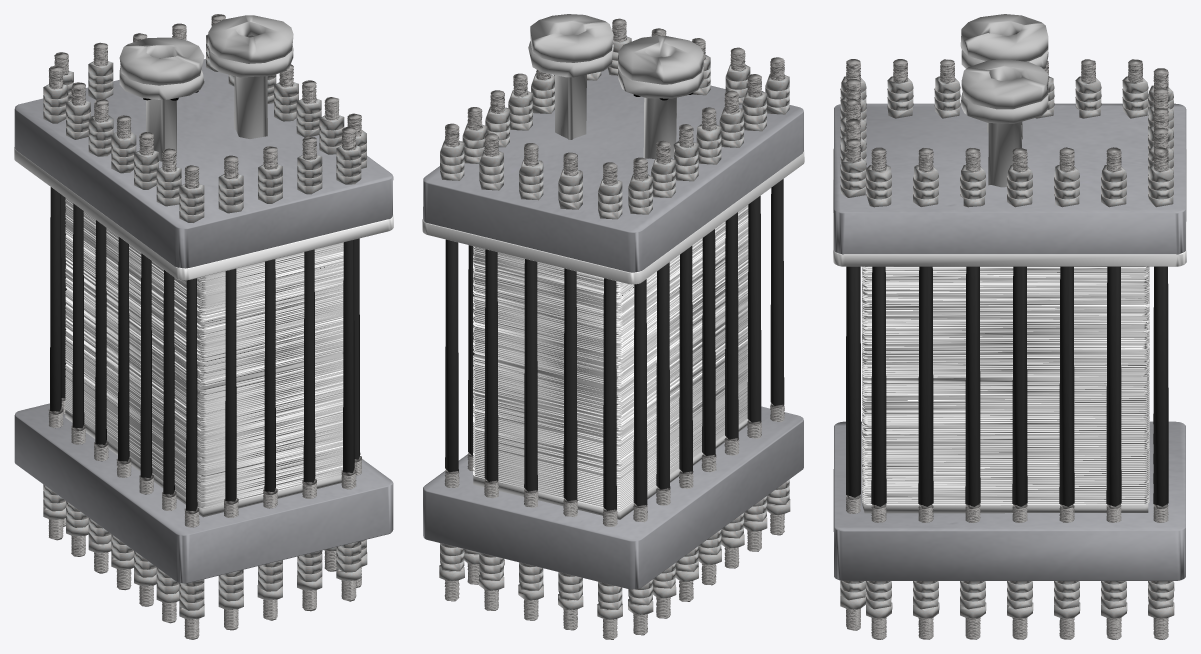
The model's file is hydrolyzer.glb.
The picture shows the model from 3 angles, left to right: view 1: azimuth 30°, elevation 25°; view 2: azimuth 150°, elevation 25°; view 3: azimuth 270°, elevation 25°; orthographic projection. The views are drawn at different scales.
Parts seen in each view (by area): view 1: Plane001, Circle, Bolt001_2, Nut, Bolt001_1, Plane018; view 2: Plane001, Circle, Bolt001_2, Nut, Bolt001_1, Plane018; view 3: Plane001, Circle, Bolt001_2, Nut, Bolt001_1, Plane018.
Part boxes in pixels (box(x1,y1,x2,y2)): Plane001: box(14, 59, 393, 583); Circle: box(65, 15, 343, 517); Bolt001_2: box(50, 187, 360, 511); Nut: box(43, 34, 367, 618); Bolt001_1: box(48, 14, 361, 639); Plane018: box(14, 147, 393, 280); Plane001: box(423, 68, 803, 589); Circle: box(473, 14, 748, 519); Bolt001_2: box(445, 179, 784, 510); Nut: box(439, 36, 790, 619); Bolt001_1: box(444, 18, 784, 639); Plane018: box(422, 150, 804, 284); Plane001: box(833, 103, 1186, 580); Circle: box(861, 14, 1149, 513); Bolt001_2: box(846, 266, 1168, 506); Nut: box(840, 76, 1174, 618); Bolt001_1: box(846, 59, 1168, 639); Plane018: box(833, 149, 1186, 266).
Size of the model in its own units: 0.4385 by 1.01 by 0.5954.
Materials: 7 (6 with a texture image).
